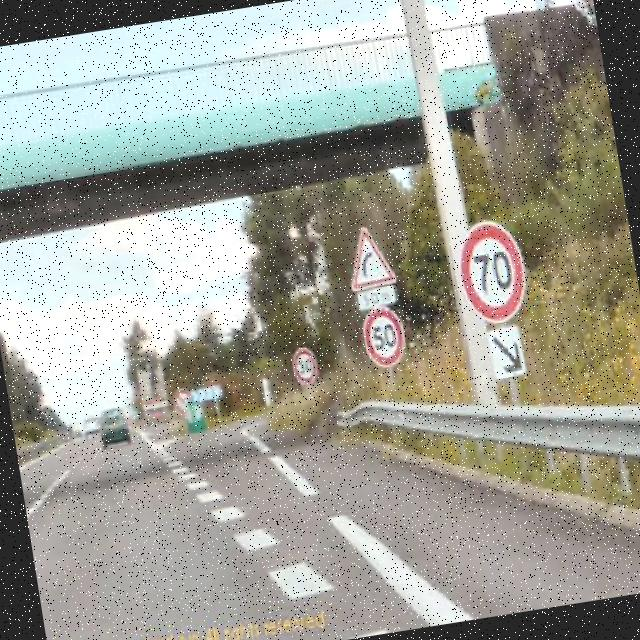Ograniczenie predkosci do 30: (288, 344, 323, 388)
Ograniczenie predkosci do 50: (356, 298, 411, 375)
